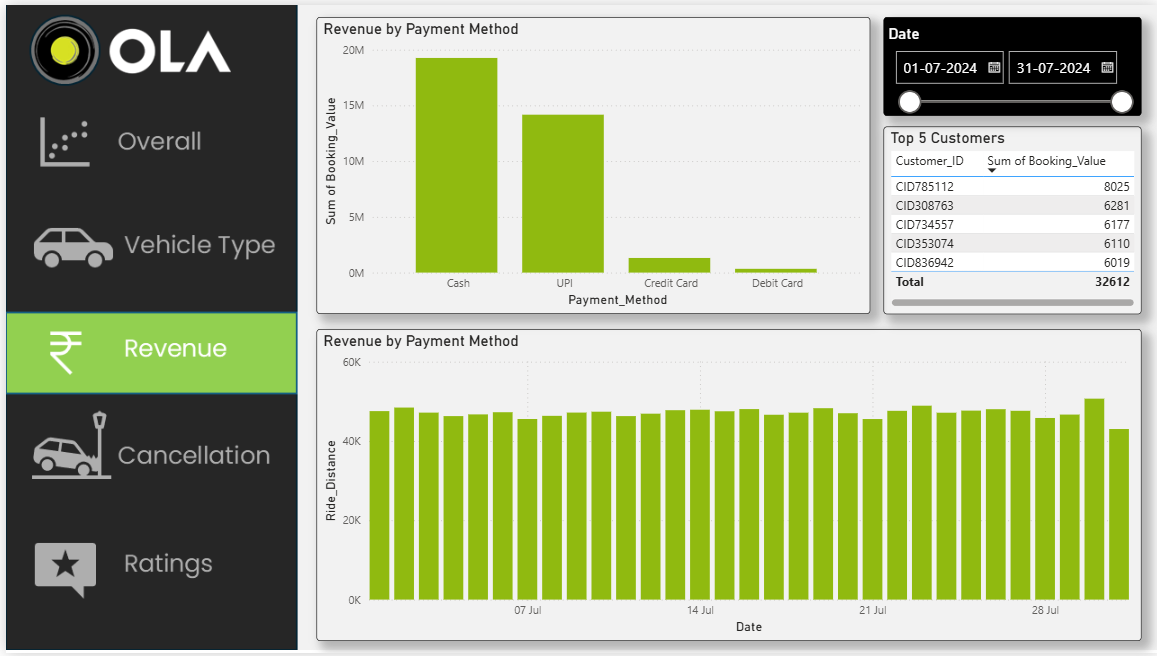

Layout of this report page (visuals, bound fields, positions):
{"tool":"powerbi","page":{"name":"Revenue","canvas":[1280,720],"ordinal":2},"visuals":[{"type":"actionButton","box":[0,224.3,325,90.6],"z":0},{"type":"actionButton","box":[0,582.4,325,90.6],"z":1000},{"type":"actionButton","box":[0,451.6,325,90.6],"z":2000},{"type":"actionButton","box":[0,105,325,90.6],"z":3000},{"type":"columnChart","title":"Revenue by Payment Method","fields":{"Y":["Sum(Bookings.Booking_Value)"],"Category":["Bookings.Payment_Method"]},"box":[345,13.3,615,330],"z":4000},{"type":"columnChart","title":"Revenue by Payment Method","fields":{"Y":["Sum(Bookings.Ride_Distance)"],"Category":["Bookings.Date"]},"box":[345,360,916.7,346.7],"z":5000},{"type":"slicer","title":"Date","fields":{"Values":["Bookings.Date"]},"box":[975,13.3,286.7,110],"z":6000},{"type":"tableEx","title":"Top 5 Customers","fields":{"Values":["Bookings.Customer_ID","Sum(Bookings.Booking_Value)"]},"box":[975,135,286.7,208.3],"z":7000}]}

Visuals, with their boxes in screenshot pixels (x1, y1, x2, y2), scaled from the page's 1280x720 canvas onto the 1157x656 screenshot:
actionButton: rect(0, 204, 294, 287)
actionButton: rect(0, 531, 294, 613)
actionButton: rect(0, 411, 294, 494)
actionButton: rect(0, 96, 294, 178)
"Revenue by Payment Method" columnChart: rect(312, 12, 868, 313)
"Revenue by Payment Method" columnChart: rect(312, 328, 1140, 644)
"Date" slicer: rect(881, 12, 1140, 112)
"Top 5 Customers" tableEx: rect(881, 123, 1140, 313)
